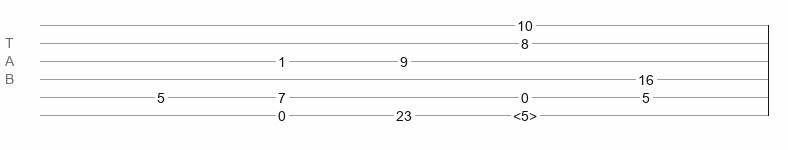0: (278, 108, 286, 118), (521, 90, 529, 100)
1: (278, 54, 286, 64)
10: (517, 18, 533, 28)
16: (638, 72, 654, 82)
23: (396, 108, 412, 118)
5: (157, 90, 165, 100), (642, 90, 650, 100)
7: (278, 90, 286, 100)
8: (521, 36, 529, 46)
9: (400, 54, 408, 64)
harmonic: (513, 108, 537, 118)
